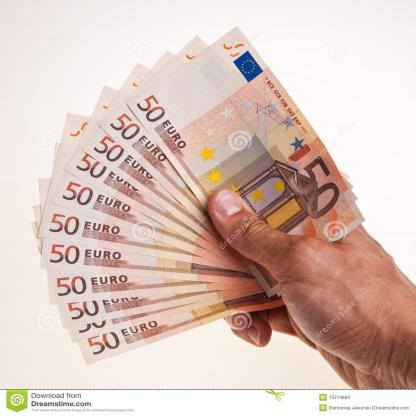billete: (30, 22, 368, 368)
